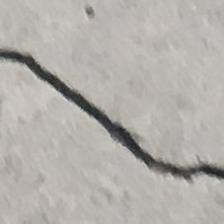Crack: (0, 35, 224, 204)
